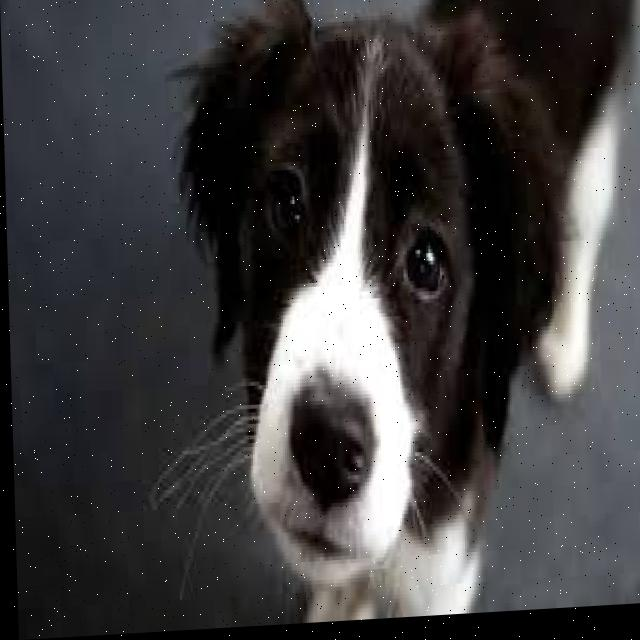ALASKAN_MALAMUTE: (149, 0, 640, 633)
